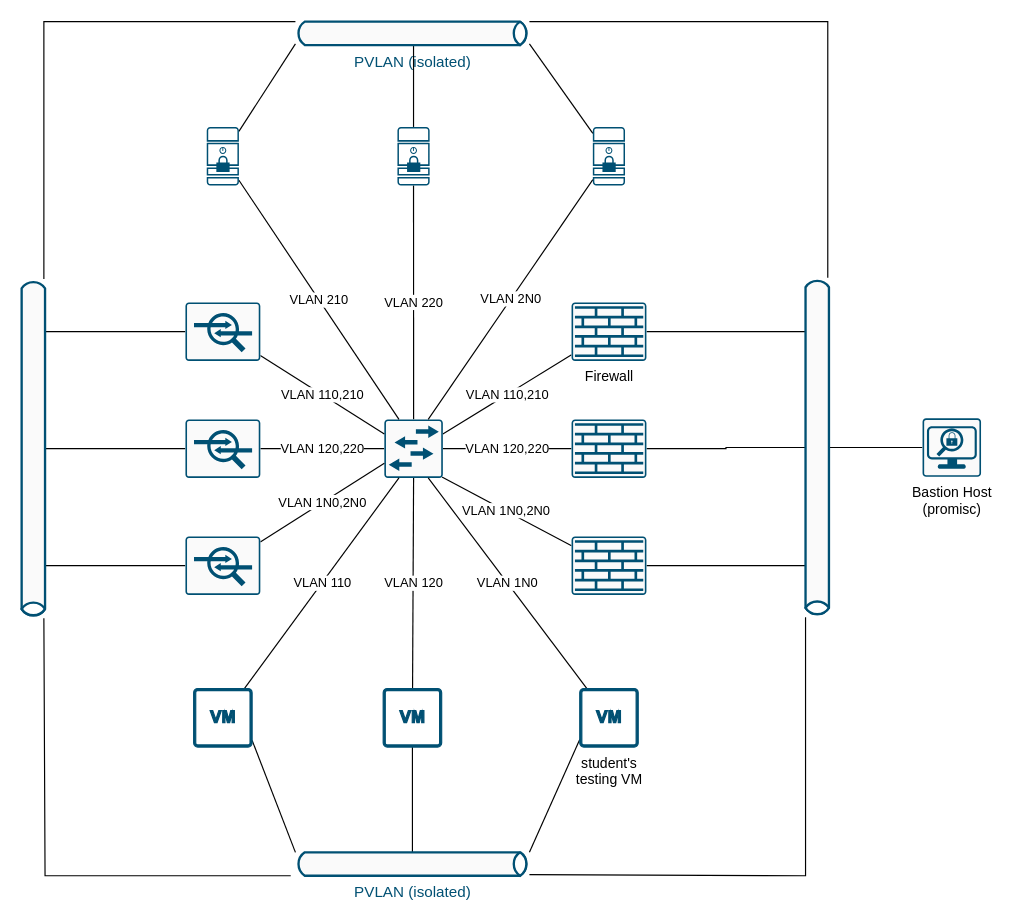
The diagram is 1011 pixels wide and 922 high, and some of its shapes have lost their labels. Each missing label, with the centre of its shape:
IDS: point (222, 331)
Protected Service: point (413, 155)
